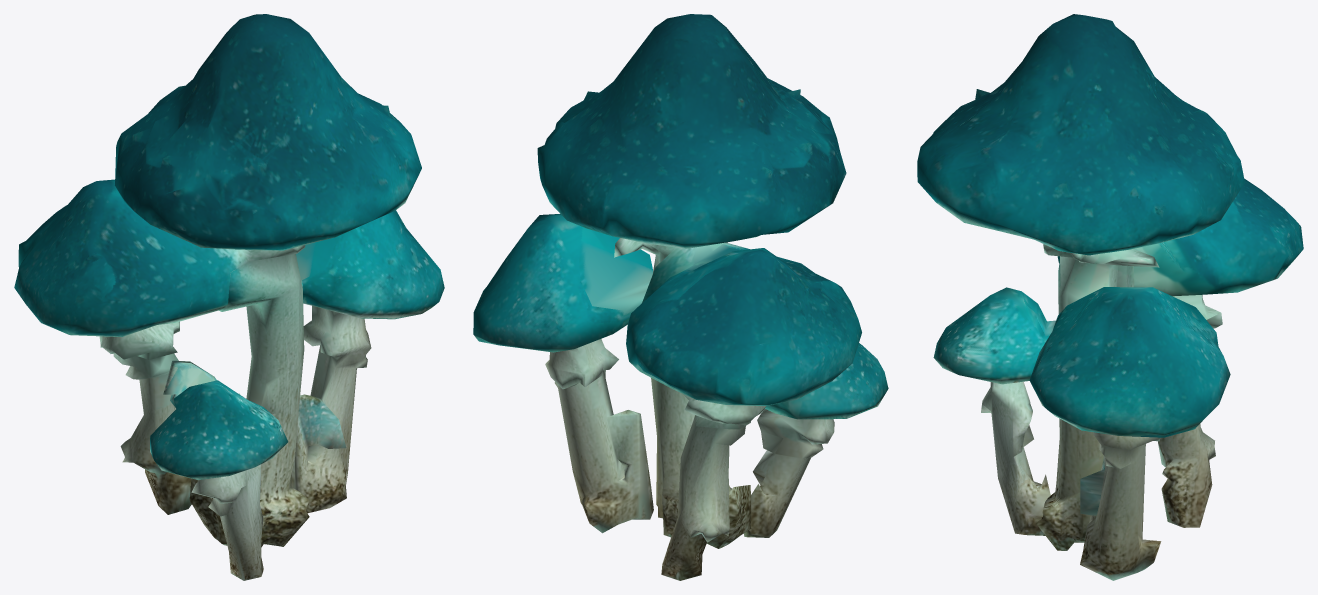
File: glow_mushrooms.glb
3 renders of one model, left to right at view 1: azimuth 30°, elevation 25°; view 2: azimuth 150°, elevation 25°; view 3: azimuth 270°, elevation 25°, orthographic. The views are drawn at different scales.
Bounding box in the file's own units: 0.7366 × 0.9951 × 0.6462.
Materials: 1 (1 with a texture image).
